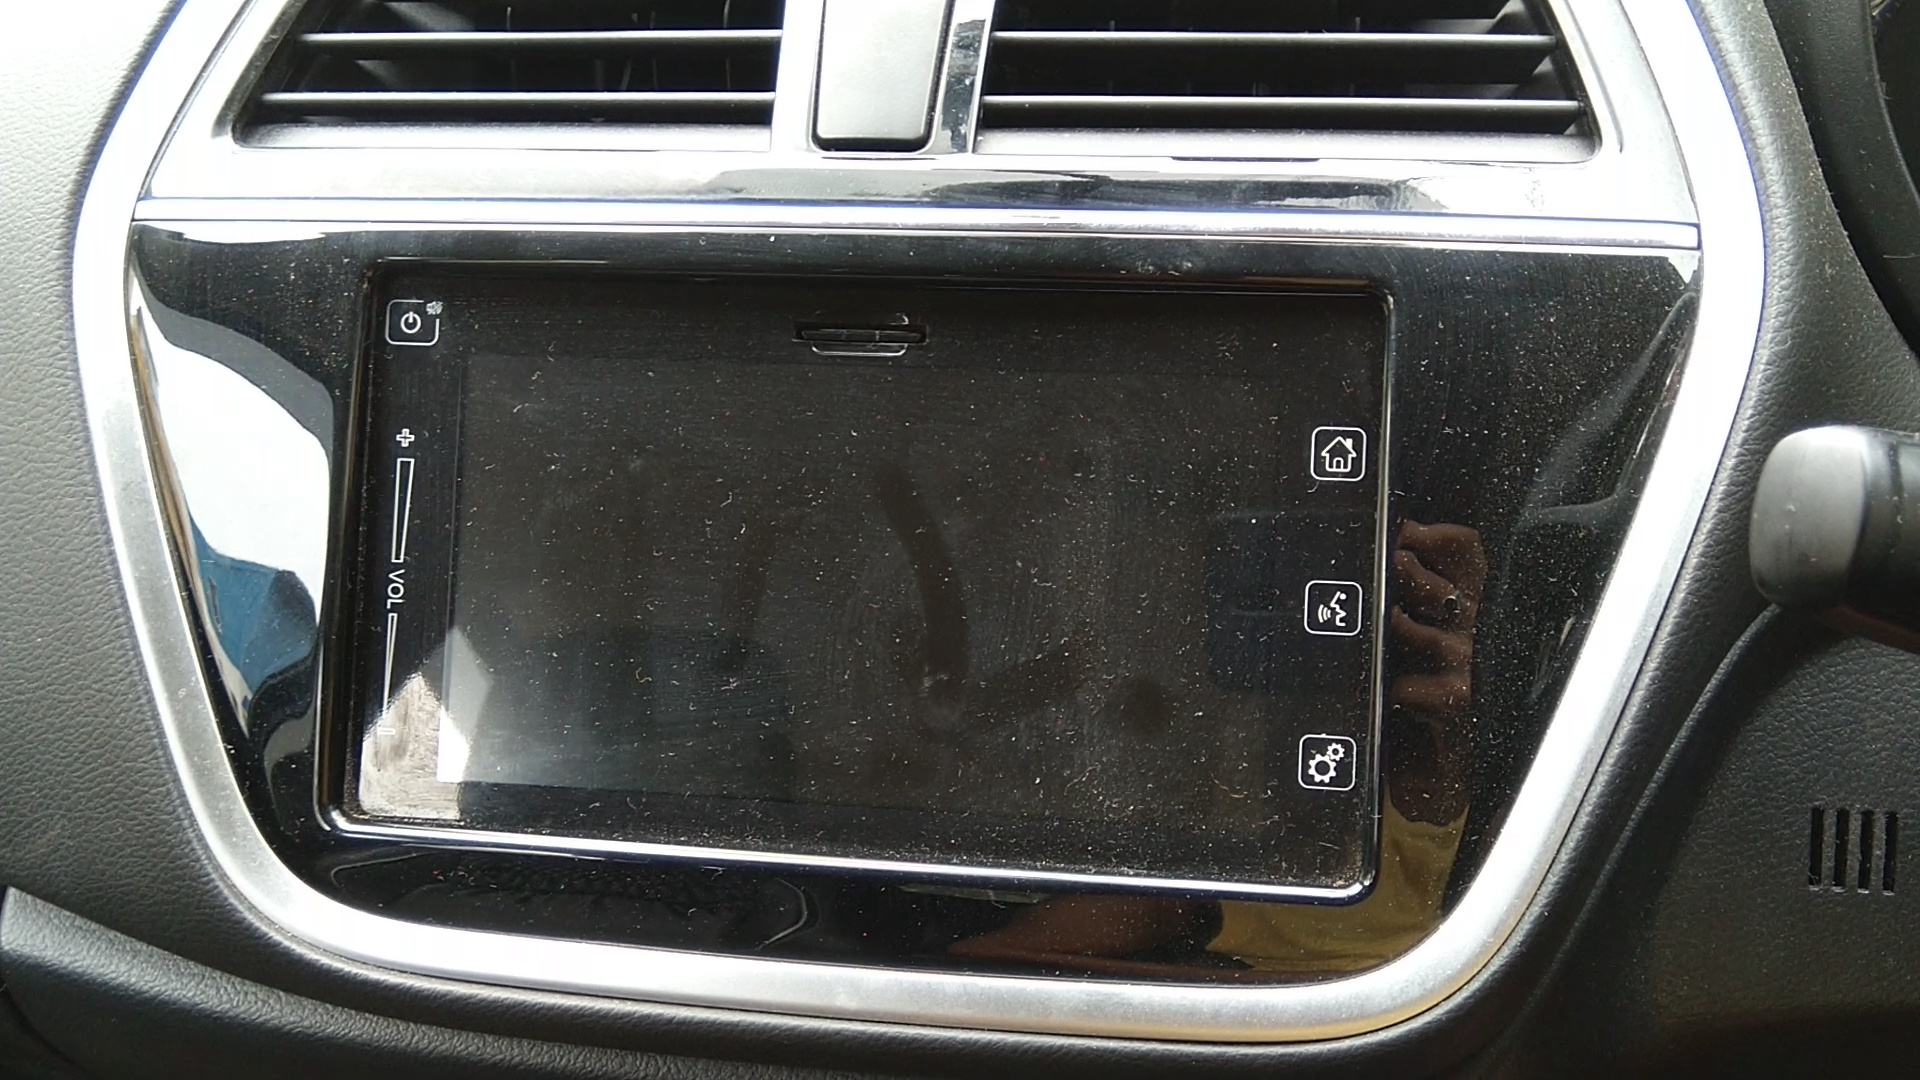touch_infotainment: (349, 255, 1385, 907)
